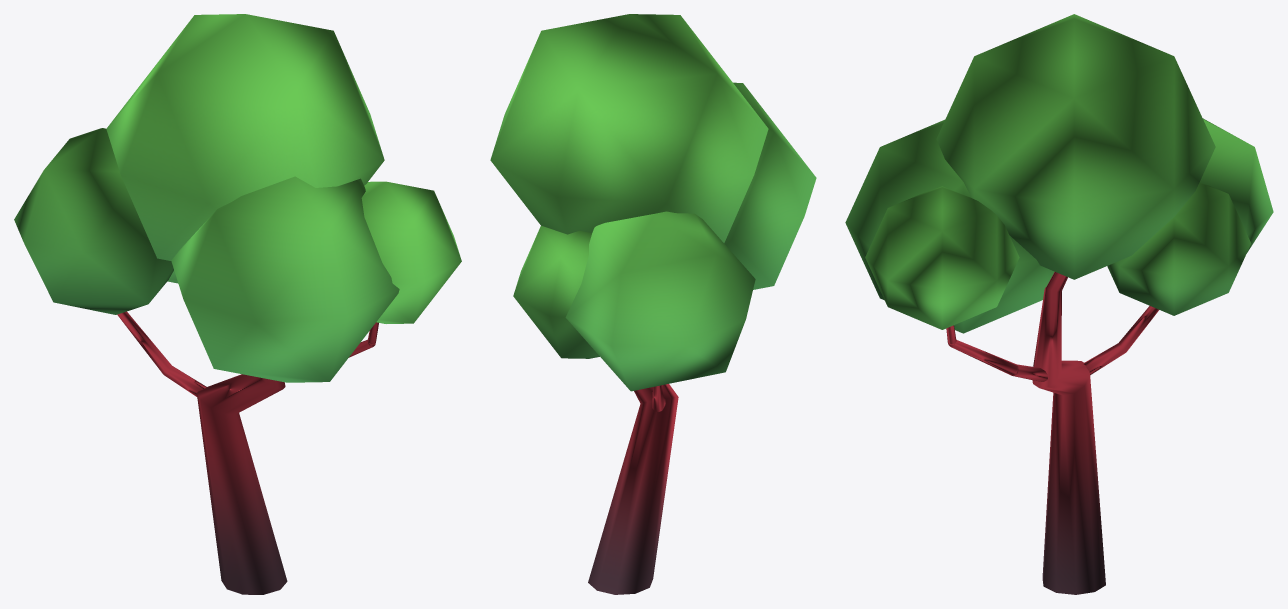
The model's file is tree_round_3.glb.
3 views of the same model, side by side, from view 1: azimuth 30°, elevation 25°; view 2: azimuth 150°, elevation 25°; view 3: azimuth 270°, elevation 25° (orthographic).
Visible parts, largest first — view 1: tree_round_3; view 2: tree_round_3; view 3: tree_round_3.
Boxes of the visible parts, x1,y1,x2,y2 form: tree_round_3: (14,14,461,594); tree_round_3: (490,14,816,594); tree_round_3: (845,14,1273,594).
Size of the model in its own units: 2.85 by 5 by 3.47.
Materials: 1 (1 with a texture image).
